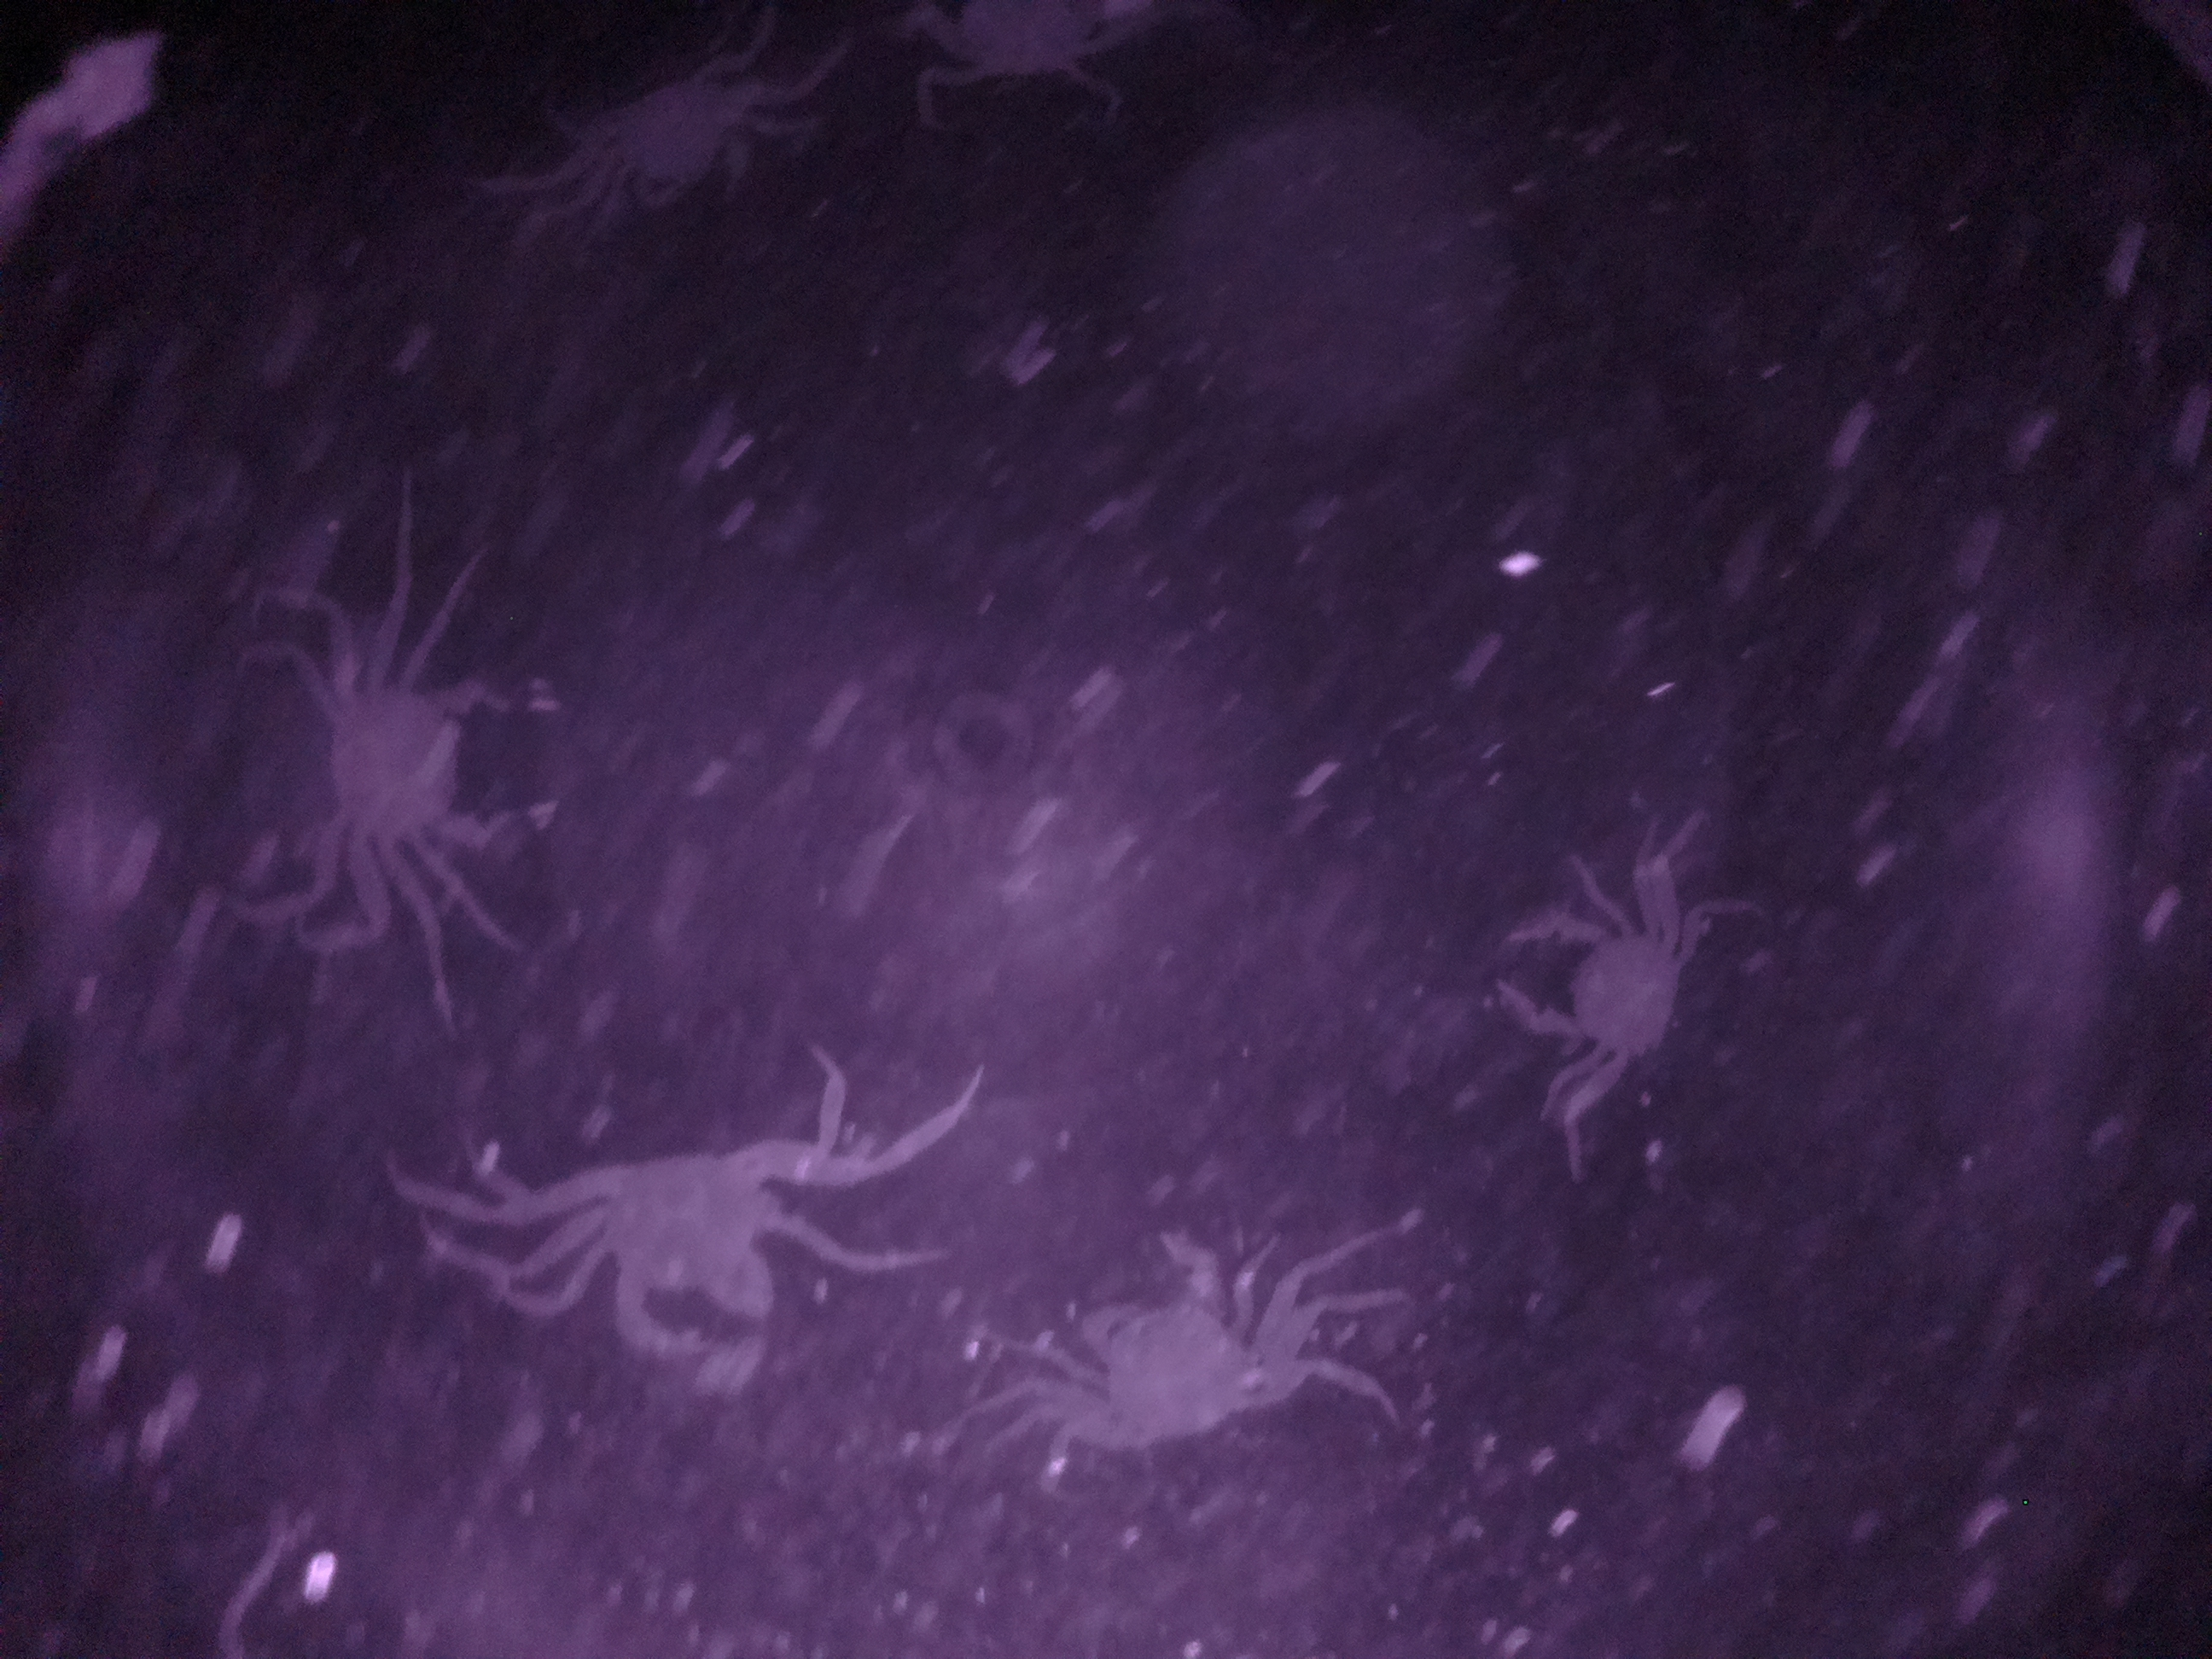Crab: (1003, 1216, 1305, 1488), (526, 1119, 808, 1398), (273, 647, 610, 873), (1463, 882, 1721, 1094)
